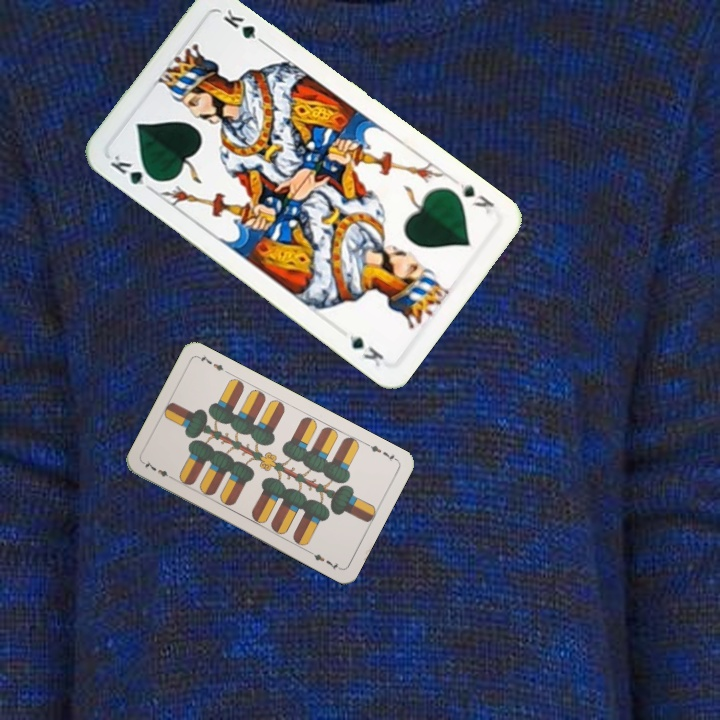E7: (139, 457, 177, 483), (362, 439, 400, 463)
GK: (106, 150, 161, 194), (456, 179, 497, 217)
